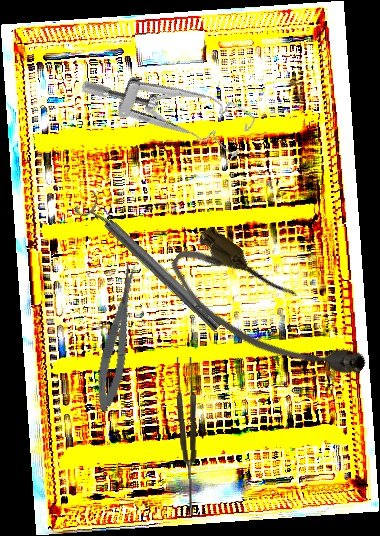Cannula: (159, 220, 377, 409)
Fixation Ring: (72, 188, 228, 340)
Micro Scissor: (90, 262, 147, 413)
Speculum: (77, 29, 262, 182)
Tissue Forceps: (175, 356, 200, 516)
